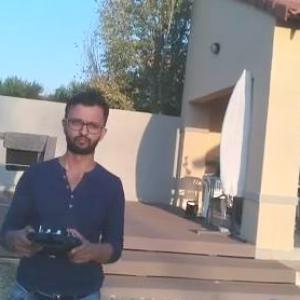follow: (0, 85, 135, 299)
